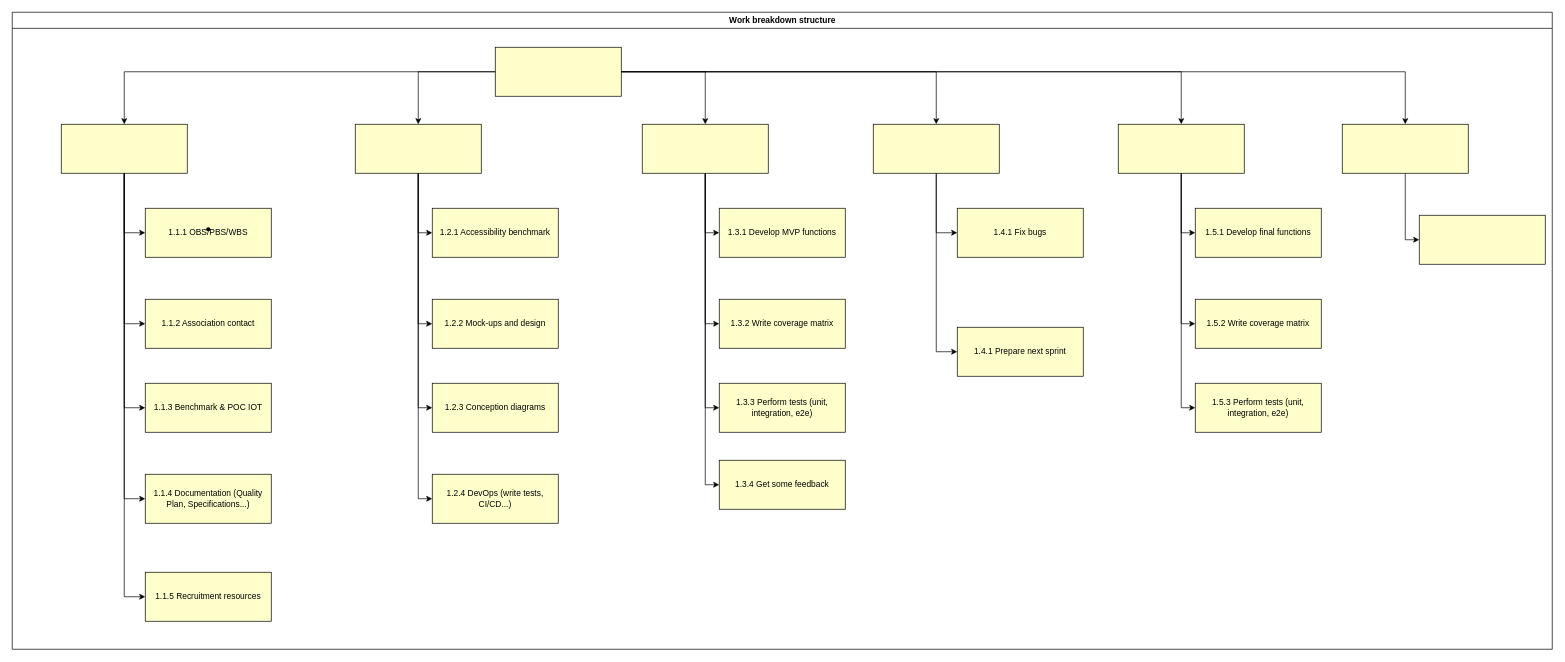
This 1565x662 diagram has some shape labels left out. Here are the shapes that lost their labels. From the top down, the centre of each, then its label:
the point at 558,71: 1. ShopForMe
the point at 124,148: 1.1 Definition of the need
the point at 418,148: 1.2 Mobile conception
the point at 705,148: 1.3 MVP
the point at 936,148: 1.4 MVP V2
the point at 1181,148: 1.5 Final realease
the point at 1405,148: 1.6 Final realease V2
the point at 1482,239: 1.6.1 Fix bugs
